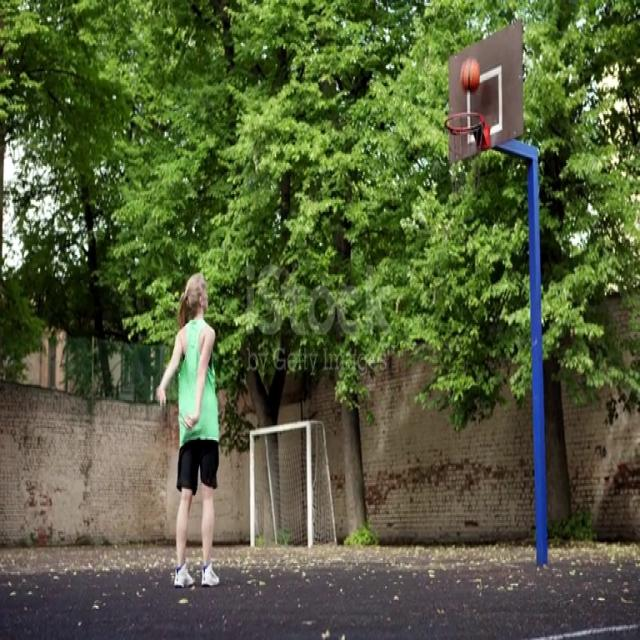ball: (459, 56, 481, 92)
